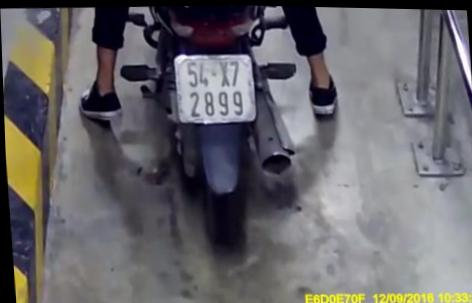LP: (170, 48, 260, 126)
